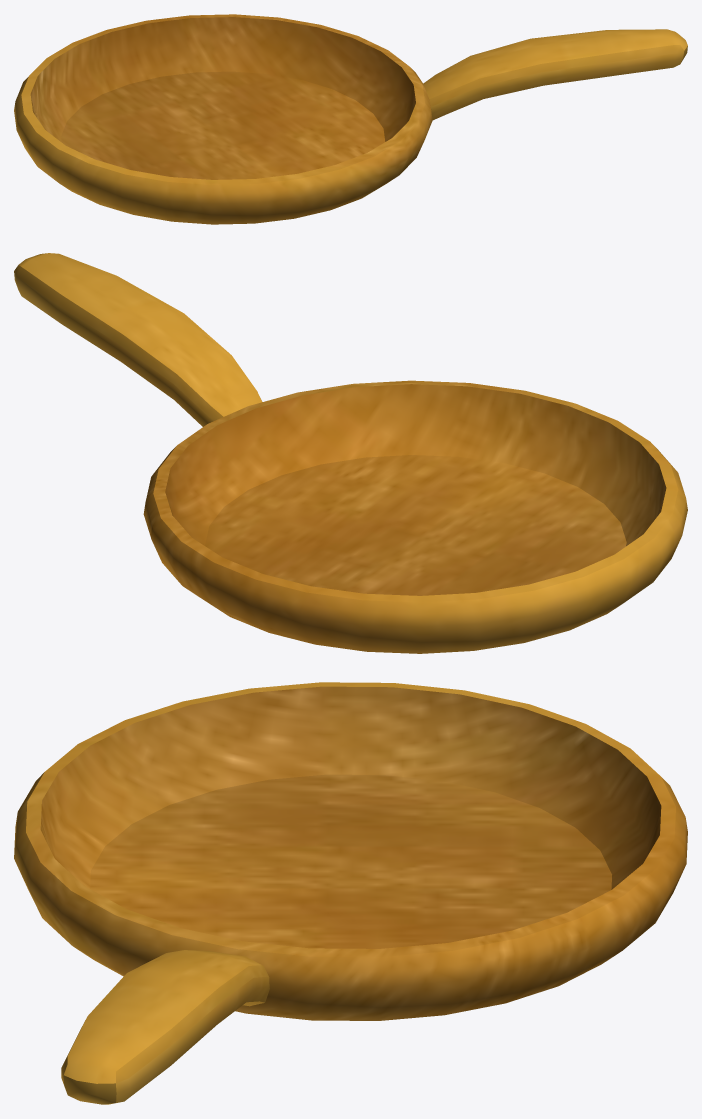
File: pan.obj
3 renders of one model, top to bottom at view 1: azimuth 30°, elevation 25°; view 2: azimuth 150°, elevation 25°; view 3: azimuth 270°, elevation 25°, orthographic. The views are drawn at different scales.
Visible parts, largest first — view 1: FryPan.Base.001; view 2: FryPan.Base.001; view 3: FryPan.Base.001.
Boxes of the visible parts, box(x1,y1,x2,y2) form: FryPan.Base.001: box(14, 14, 687, 224); FryPan.Base.001: box(14, 253, 687, 653); FryPan.Base.001: box(14, 682, 687, 1104).
Bounding box in the file's own units: 2.55 × 0.3474 × 1.63.
1 material, 1 textured.
